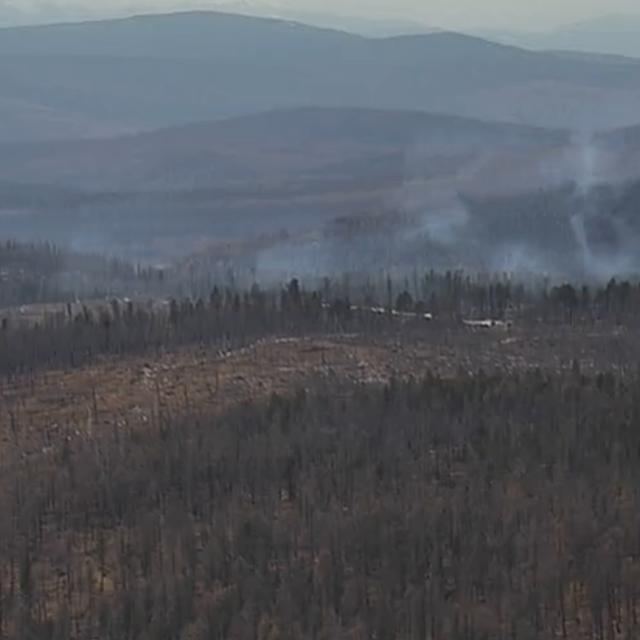Smoke: (221, 166, 640, 293)
